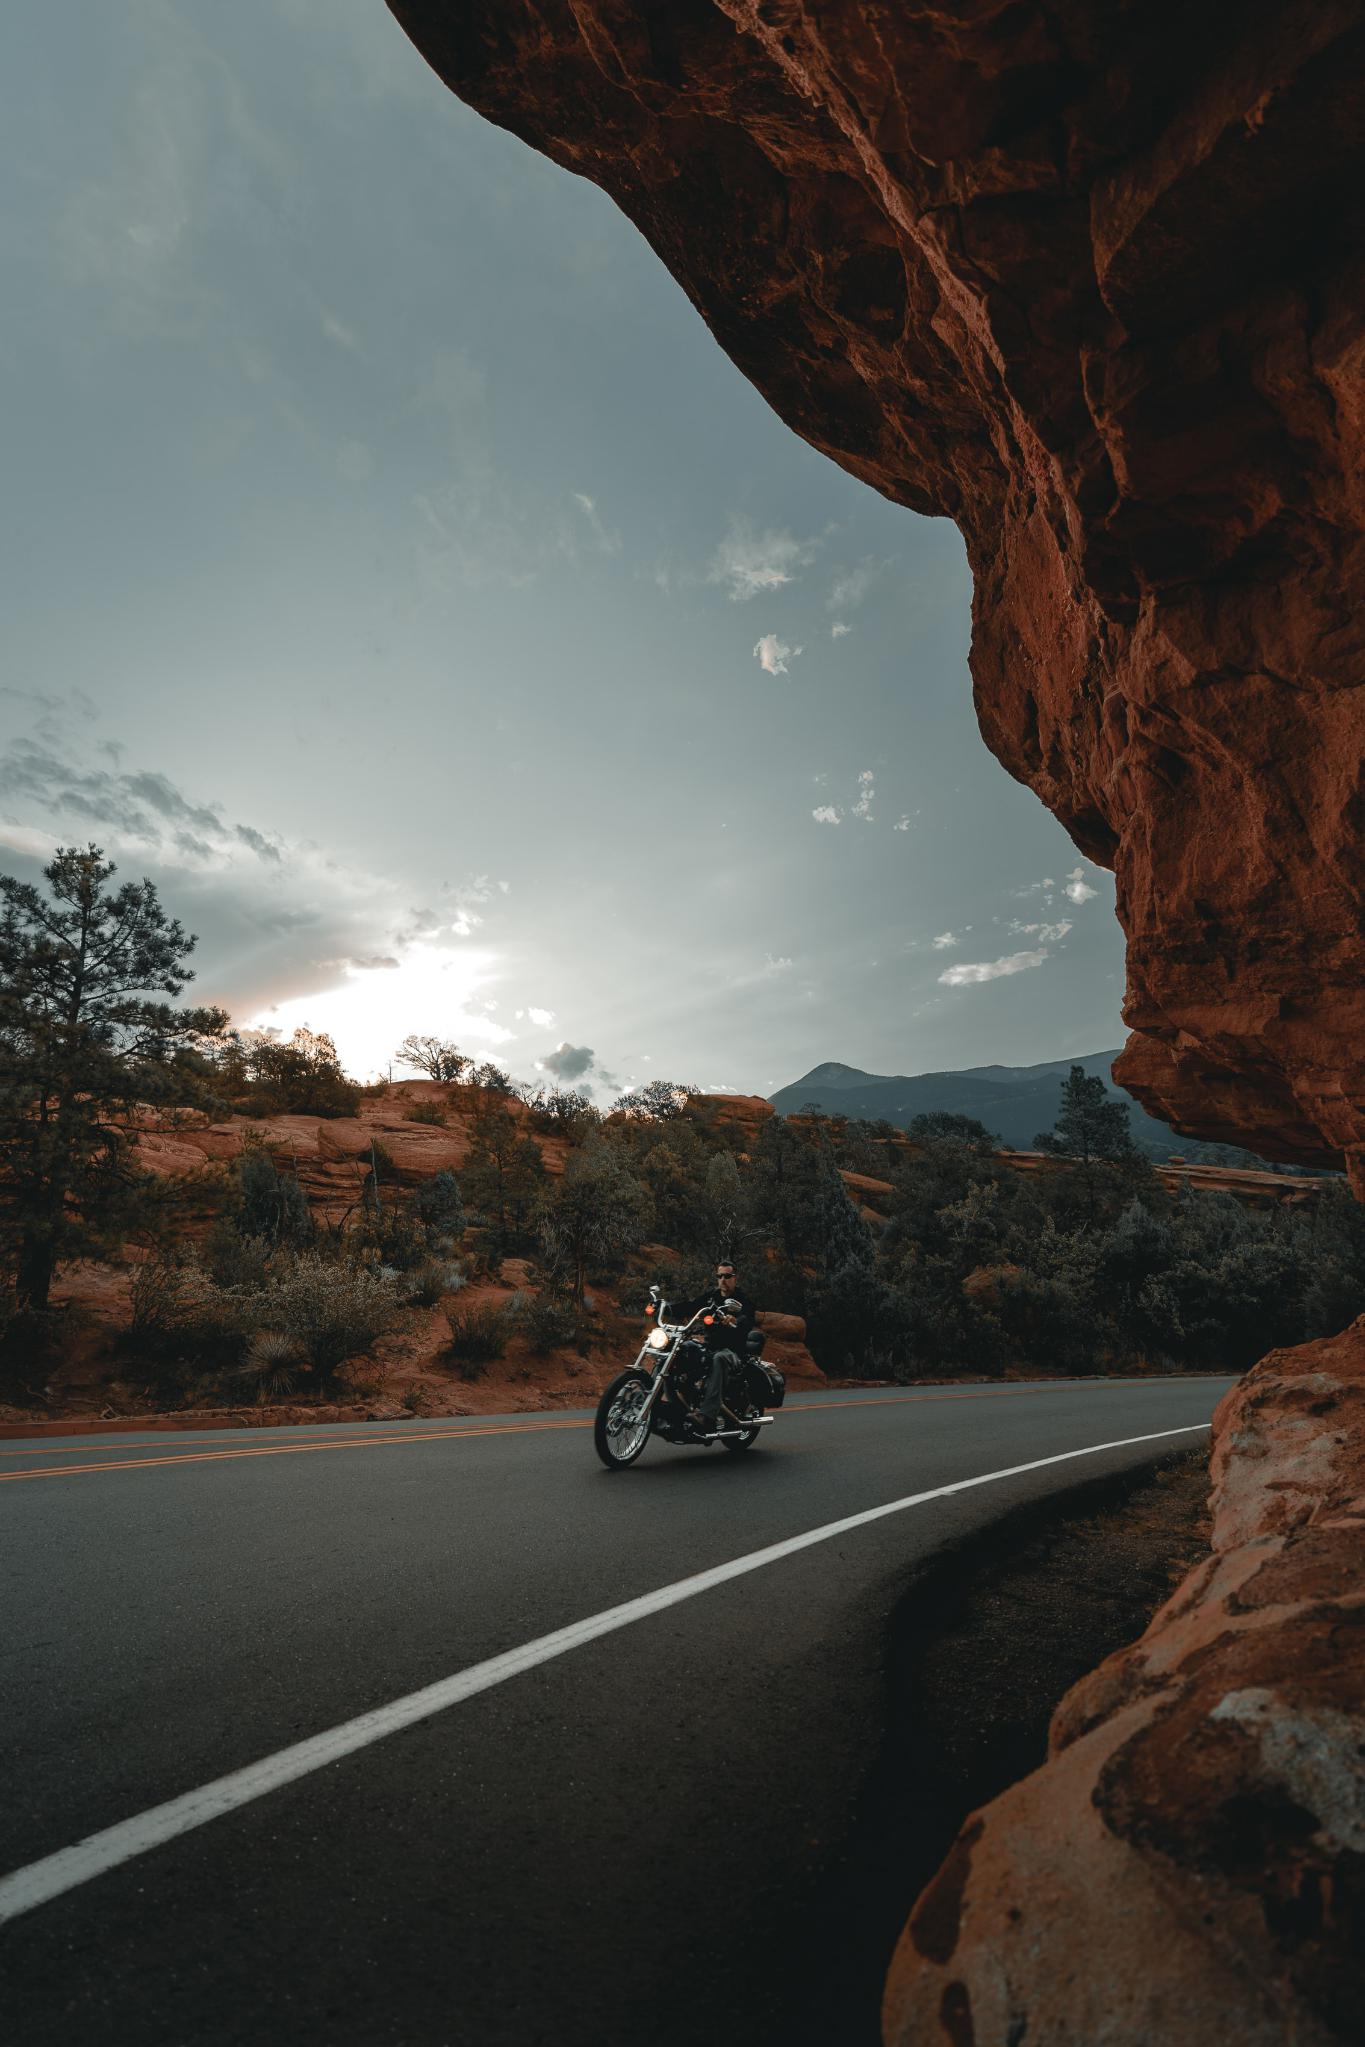motorcycle: (565, 1284, 839, 1482)
